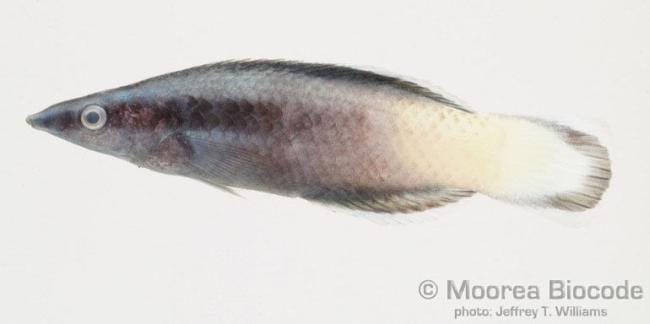fish: (25, 57, 612, 223)
